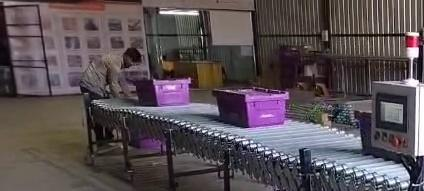box: (213, 87, 288, 127), (355, 112, 400, 160), (133, 79, 190, 105)
